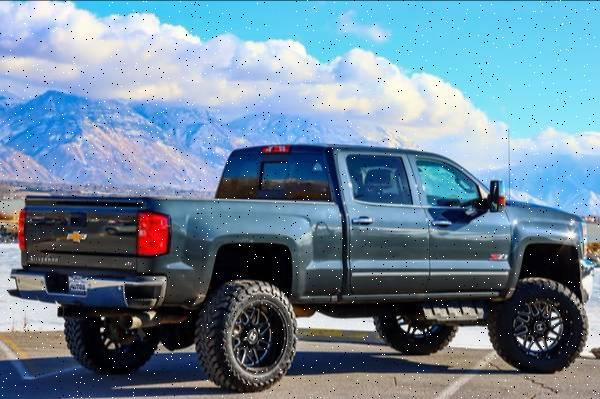Front_Fender: (509, 201, 587, 288)
Front_Right_Door: (427, 203, 515, 293)
Front_Right_Window: (413, 155, 503, 209)
Left_Taillight: (16, 212, 26, 250)
Rear_Bumper: (6, 271, 167, 314)
Rear_Fender: (137, 197, 348, 310)
Rear_Right_Door: (343, 203, 432, 296)
Rear_Right_Window: (347, 153, 425, 204)
Rear_Windshield: (215, 144, 343, 204)
Right_Taillight: (137, 210, 172, 257)
Roof: (330, 142, 507, 207)
Tailgate: (21, 198, 140, 271)
Wheel: (195, 275, 296, 392), (487, 278, 588, 374), (62, 311, 162, 373), (374, 312, 462, 357)
